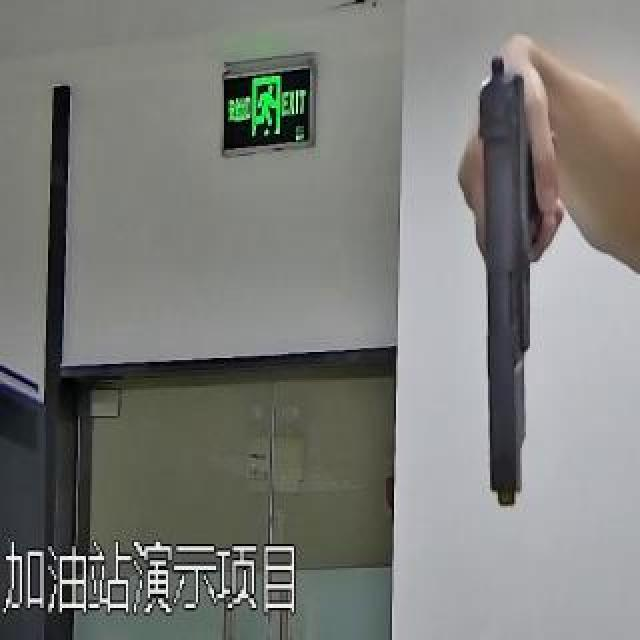Guns: (449, 18, 572, 530)
